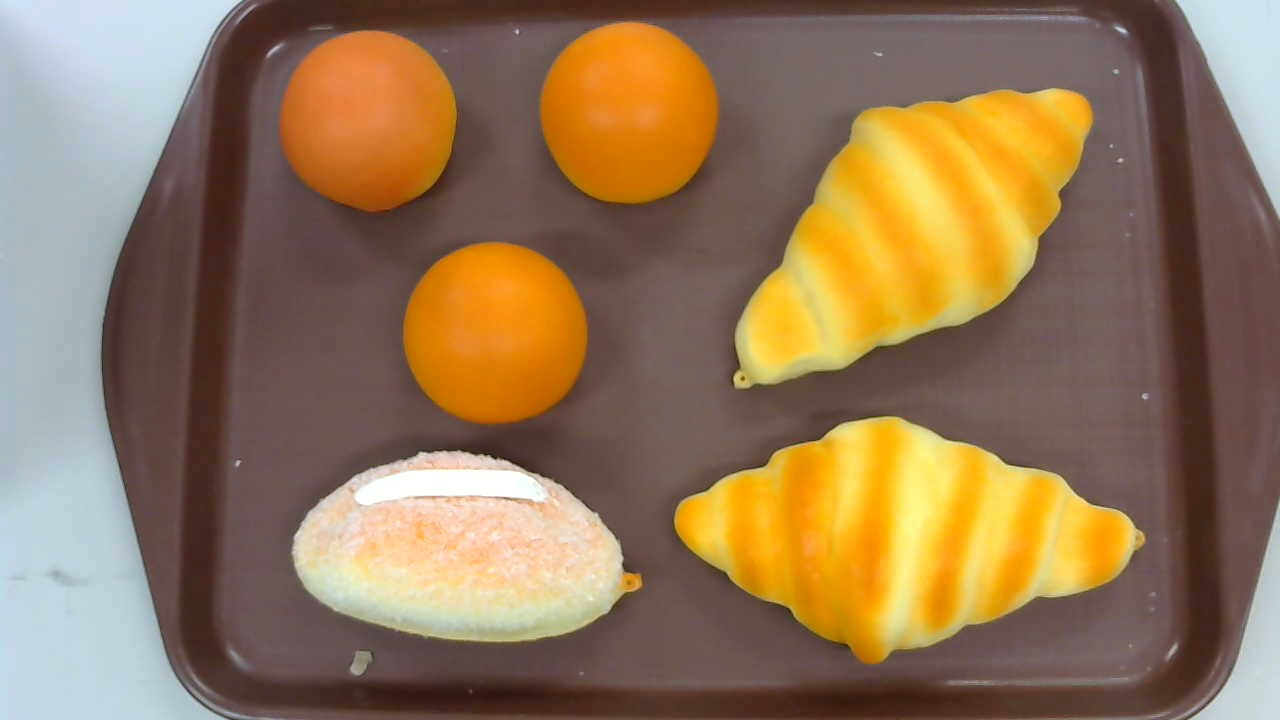bun: (403, 241, 588, 423), (539, 21, 720, 203), (279, 29, 456, 212)
coconut: (292, 447, 643, 644)
croissant: (674, 416, 1144, 666), (734, 88, 1094, 389)
